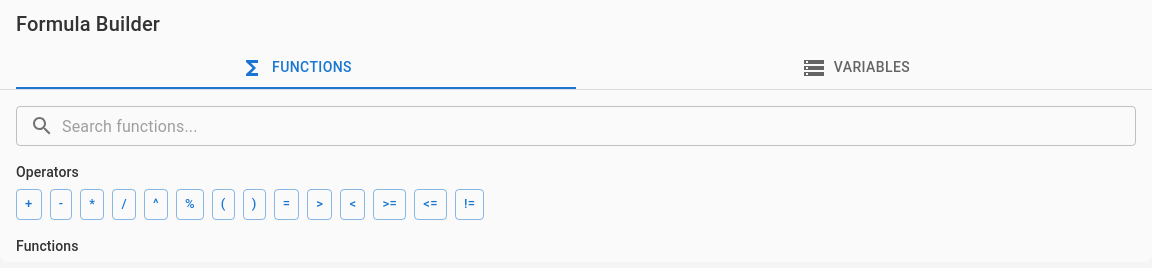
Scenario: PaletteContainer › Custom Variable Component › should render custom variable component when provided
Click the tab "Variables": (856, 68) [576,47,1136,89]
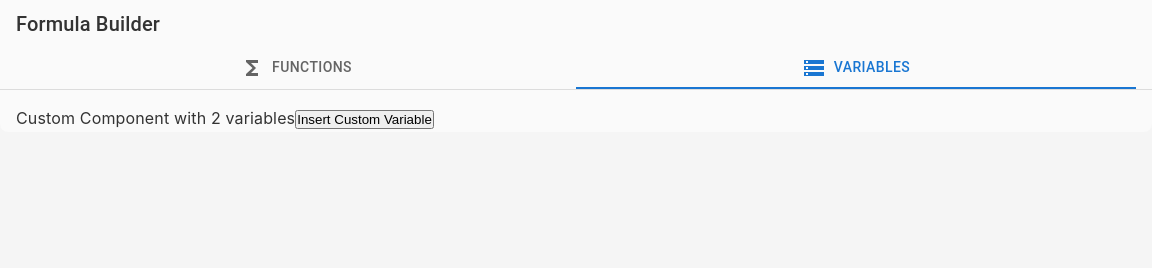
Result: the element with test id "custom-variable-component" is shown at [16,108,434,129]
Result: the text "Custom Component with 2 variables" is shown at [16,108,295,128]
